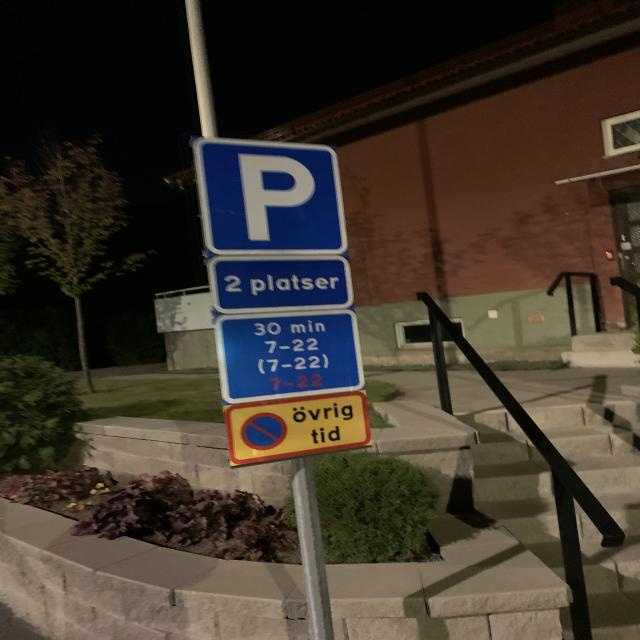P-skylt: (194, 139, 348, 257)
